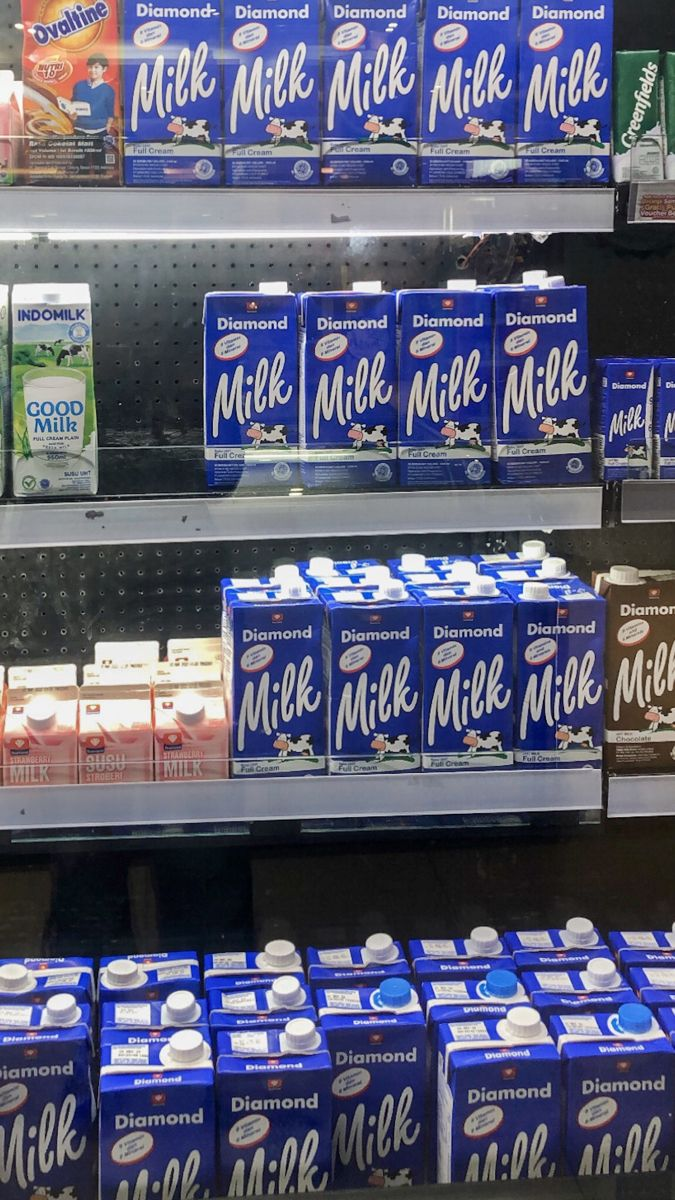milk: (203, 285, 298, 489), (321, 580, 420, 773), (502, 581, 604, 768), (12, 285, 97, 494), (422, 0, 516, 181)
